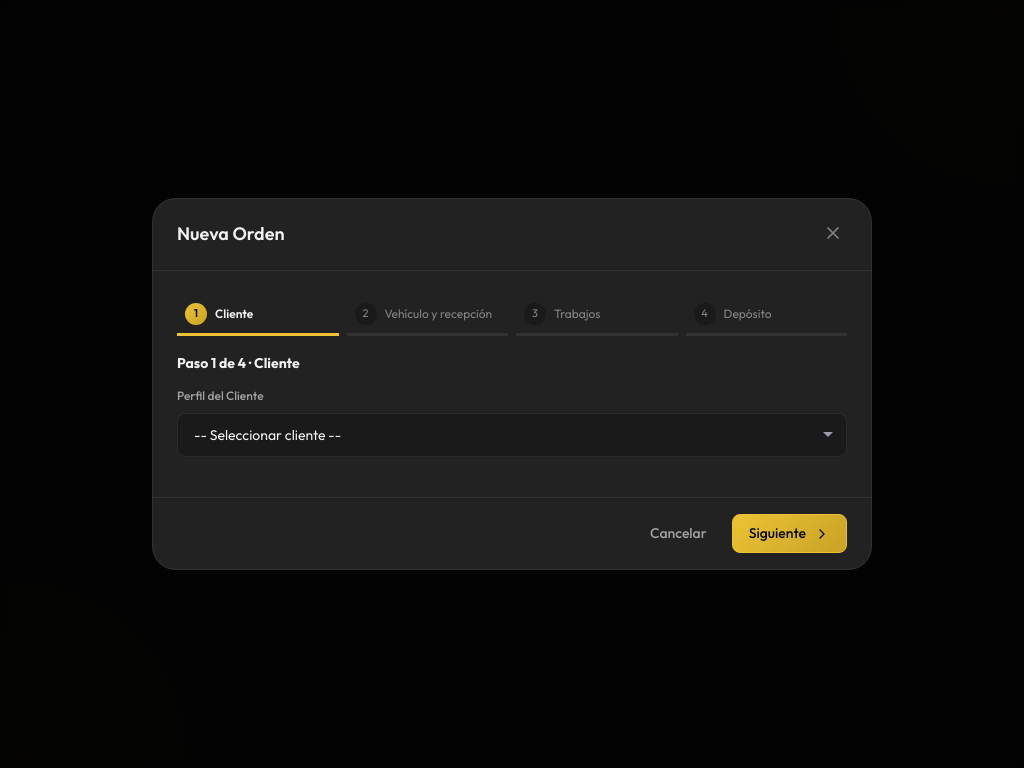
it: WorkOrderCreateModal - Assistant (Wizard) › validates required fields before advancing
The width and height of the screenshot is (1024, 768).
Click the button "Siguiente".
click(789, 534)  # box [732, 514, 847, 553]
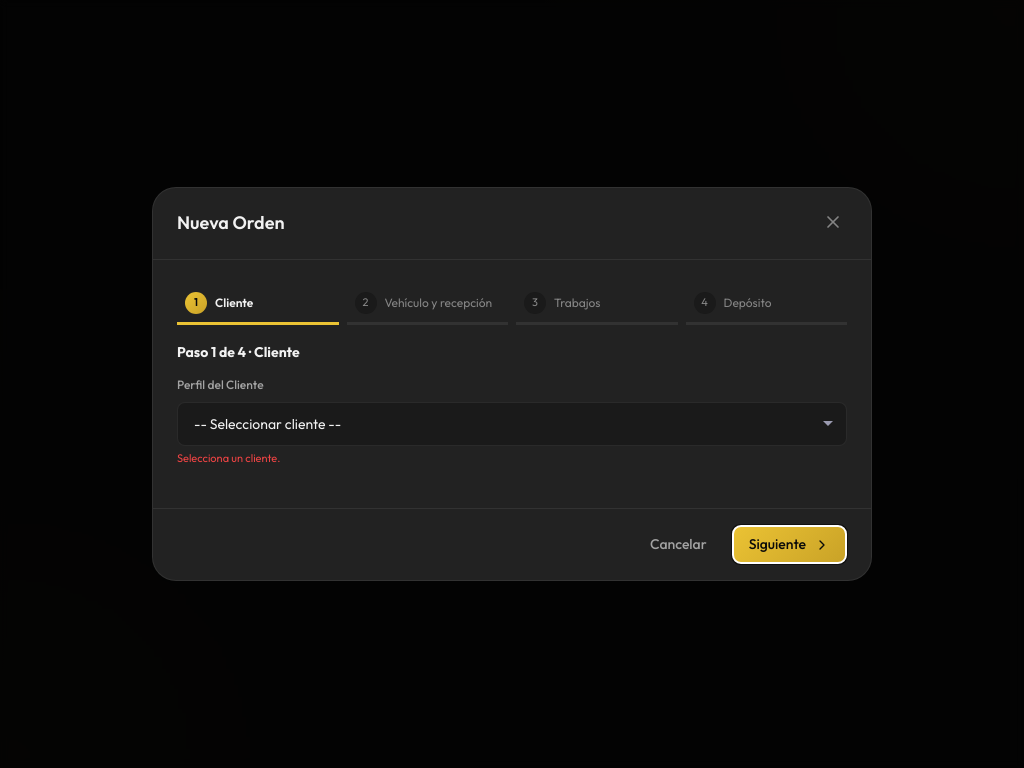
Expected: the text "Selecciona un cliente." is shown, [177, 451, 280, 465]
